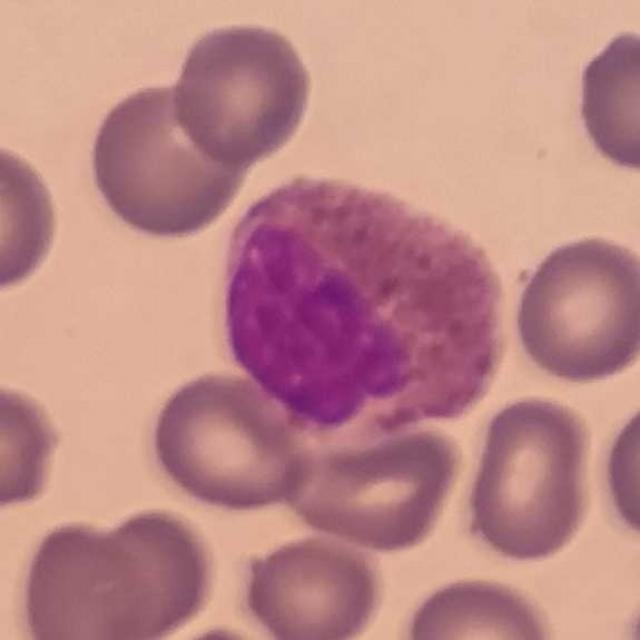Eosinophil: (206, 169, 491, 440)
Platelets: (619, 589, 640, 639)
RBC: (276, 408, 469, 556), (84, 76, 252, 242), (140, 366, 318, 516), (456, 390, 600, 568), (167, 17, 317, 167), (72, 502, 222, 640), (507, 230, 639, 386), (11, 514, 160, 640), (235, 530, 388, 640), (395, 571, 562, 640), (569, 23, 640, 177), (0, 135, 66, 299), (0, 375, 68, 518), (593, 389, 640, 550)
